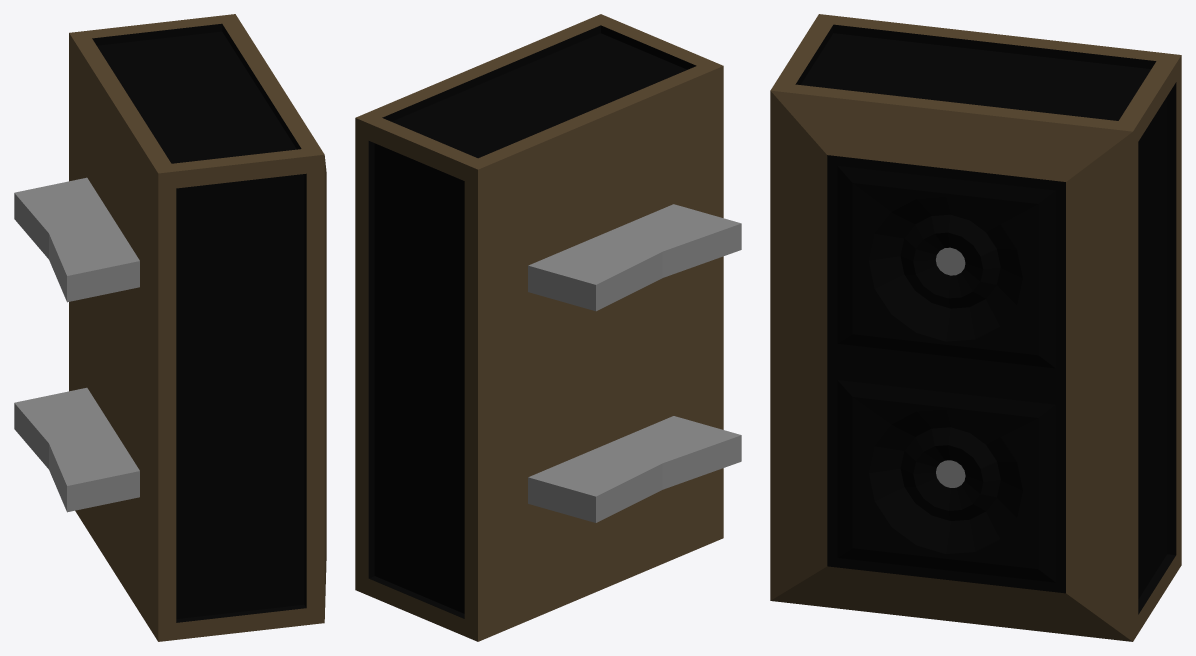
Rendered from Speaker_l.fbx.
The picture shows the model from 3 angles, left to right: view 1: azimuth 30°, elevation 25°; view 2: azimuth 150°, elevation 25°; view 3: azimuth 270°, elevation 25°; orthographic projection. The views are drawn at different scales.
Visible parts, largest first — view 1: Speaker_l; view 2: Speaker_l; view 3: Speaker_l.
Part boxes in pixels (x1,y1,x2,y2): Speaker_l: [14, 14, 326, 641]; Speaker_l: [355, 14, 741, 641]; Speaker_l: [770, 14, 1181, 641].
Bounding box in the file's own units: 186 × 300 × 219.
